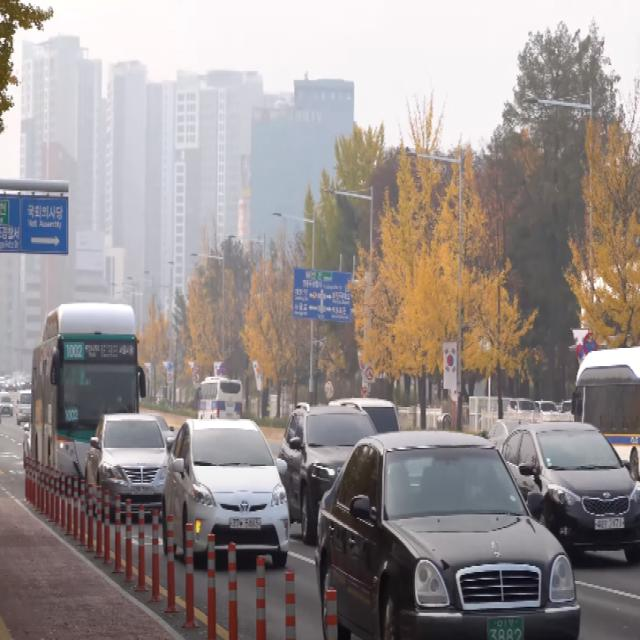bus-number: (65, 343, 83, 359)
